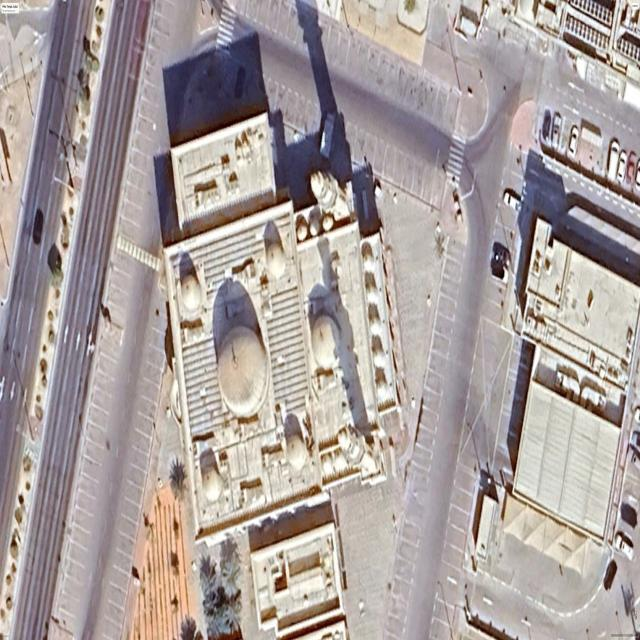mosque: (164, 111, 397, 538)
